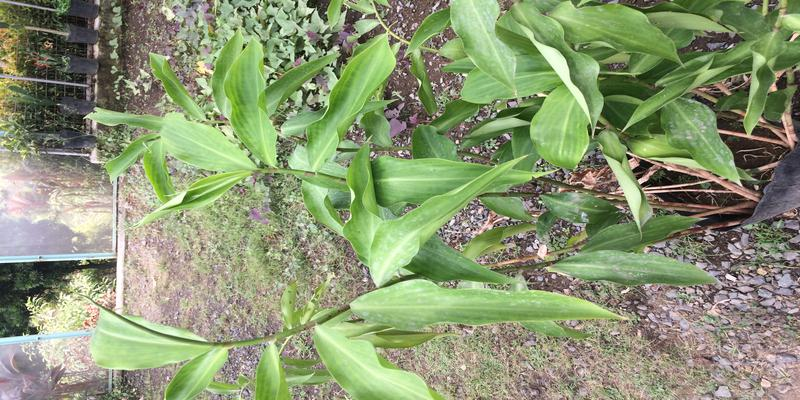Insulin: (126, 97, 717, 359)
